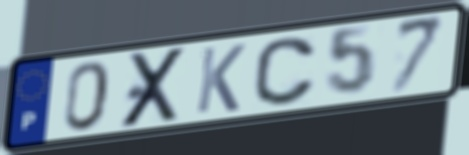0: (62, 60, 113, 133)
5: (328, 22, 380, 102)
7: (391, 11, 447, 98)
C: (251, 35, 319, 109)
K: (193, 42, 248, 116)
X: (117, 44, 191, 132)
